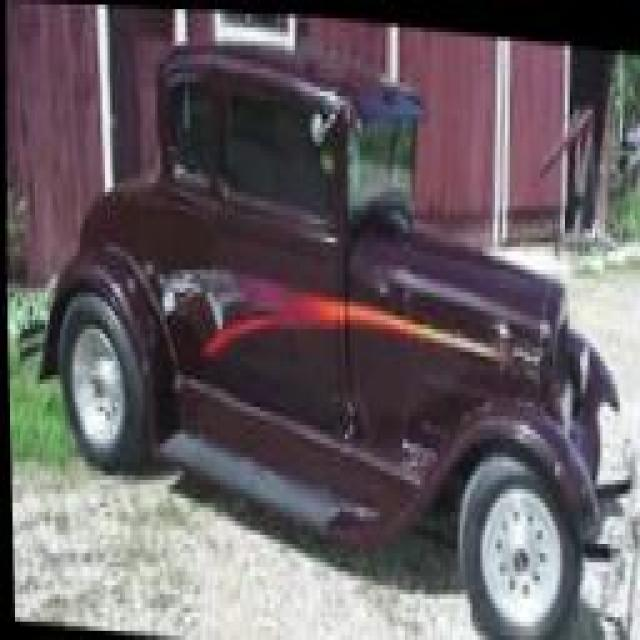Door: (122, 242, 258, 380)
